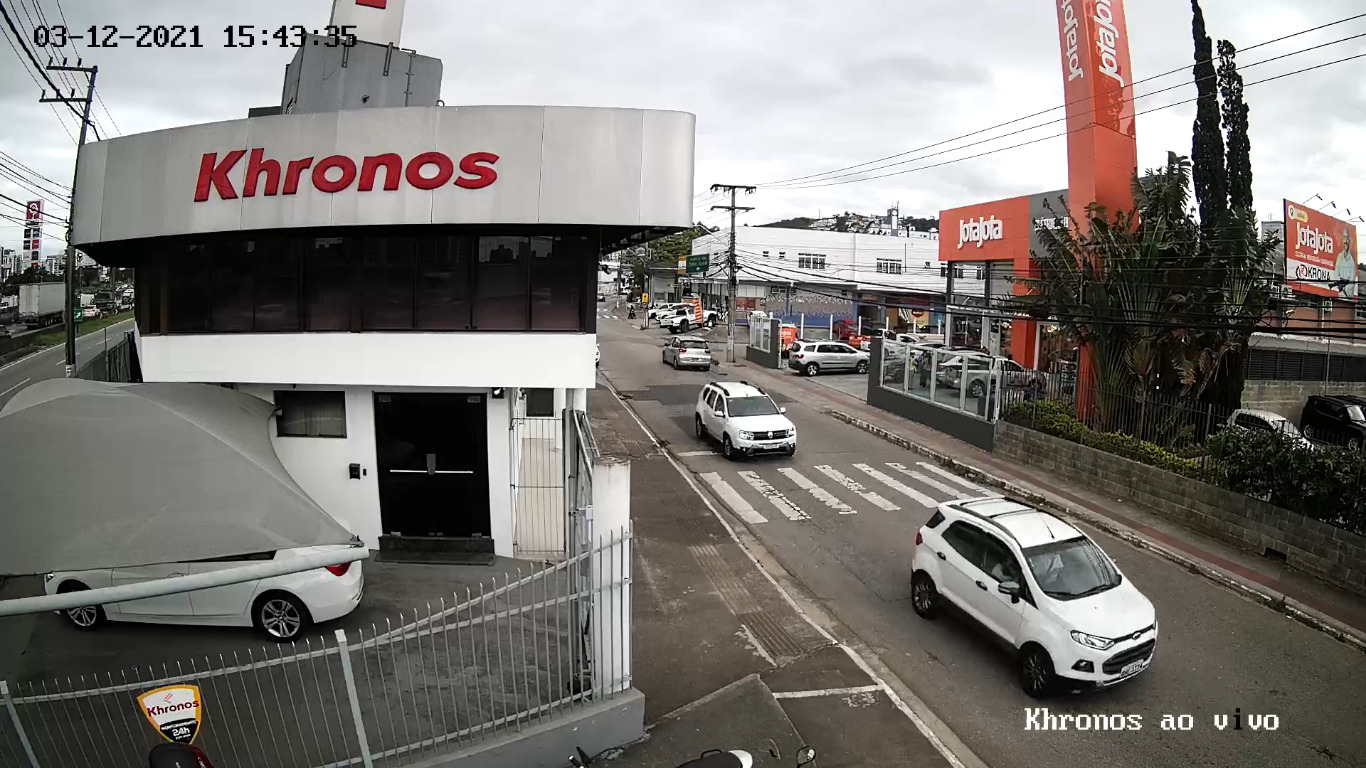car: (904, 496, 1161, 709), (692, 377, 799, 461), (788, 337, 872, 376), (660, 333, 713, 370)
misc: (192, 146, 501, 199), (135, 682, 203, 747), (1092, 1, 1124, 85), (1060, 1, 1087, 82), (958, 216, 1005, 249), (687, 255, 710, 272)
